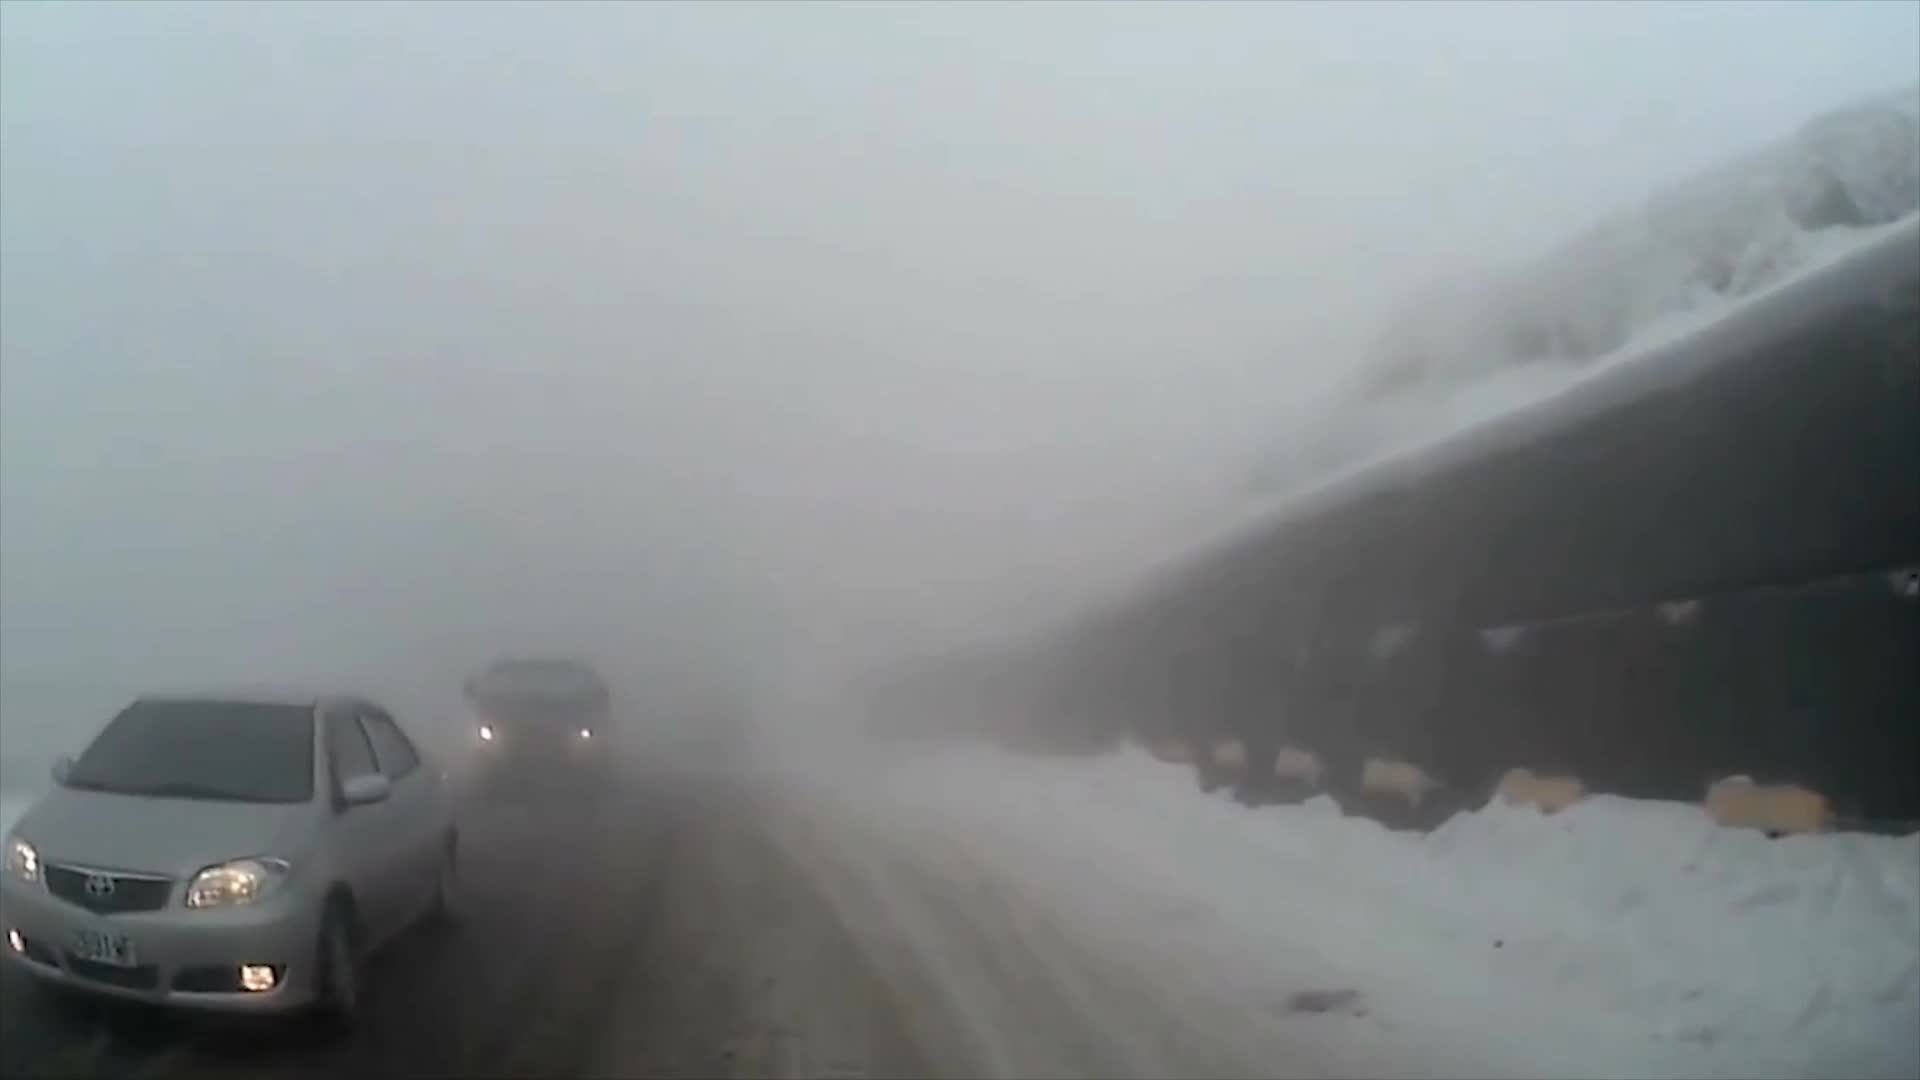vehicle: (15, 680, 465, 1038), (462, 649, 616, 785)
